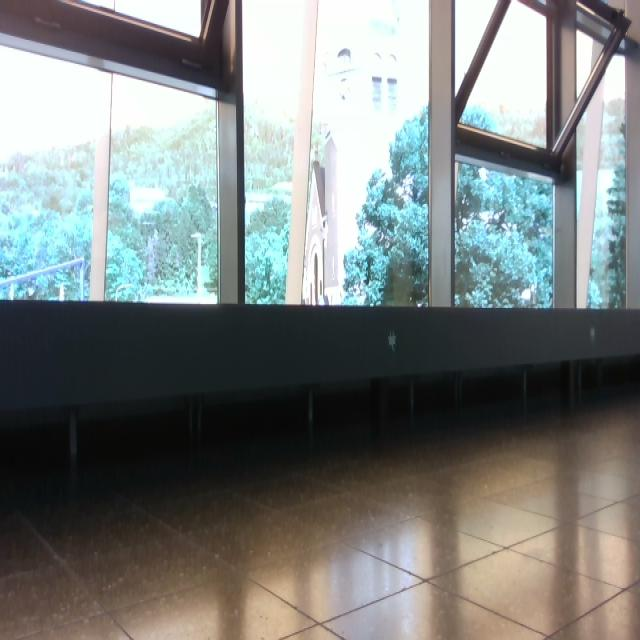light bulb: (370, 50, 382, 106), (386, 52, 398, 104), (387, 329, 396, 351), (477, 165, 487, 180)
tiled floor: (1, 393, 638, 638)
window: (0, 0, 638, 312)
